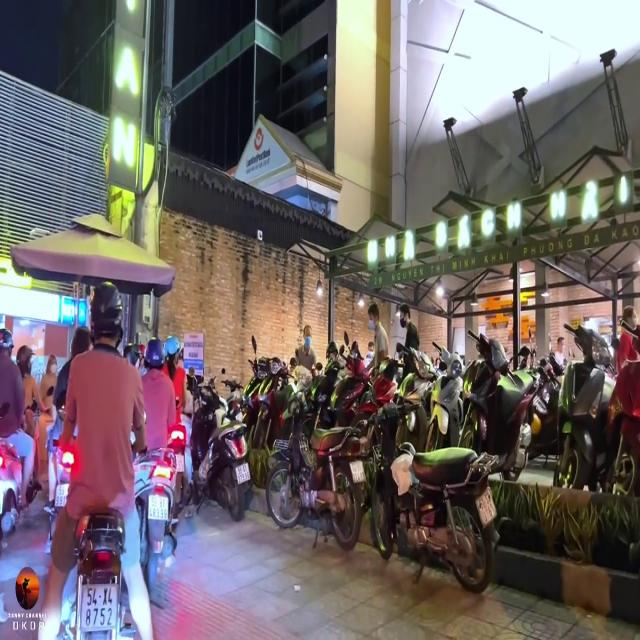bien_trang: (80, 583, 116, 629), (148, 494, 170, 521), (348, 458, 366, 484), (234, 462, 252, 486)
